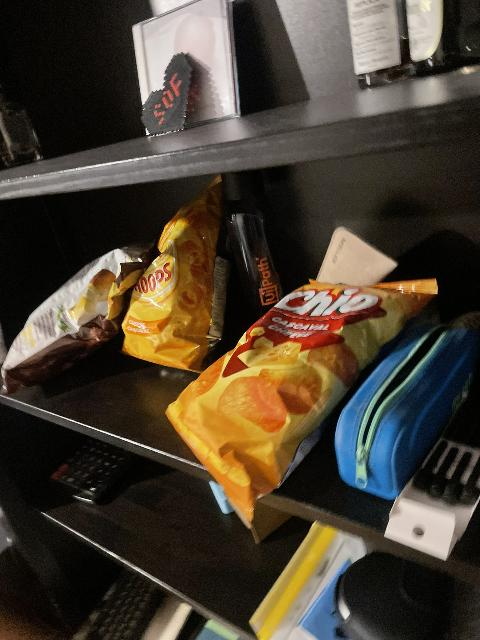Chio Cascaval 125g: (168, 273, 431, 522)
Chio Hula Hoops Cheese 70g: (122, 177, 226, 366)
Lays Beef Grilled Ribs 125g: (1, 247, 145, 388)
